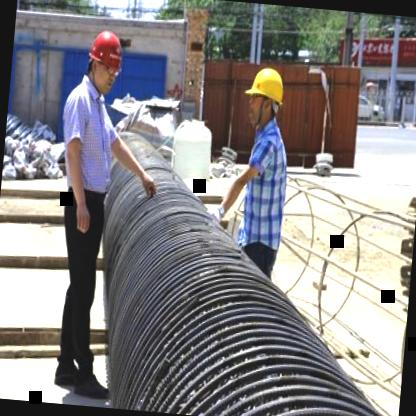helmet: (242, 61, 288, 132), (82, 25, 126, 93)
